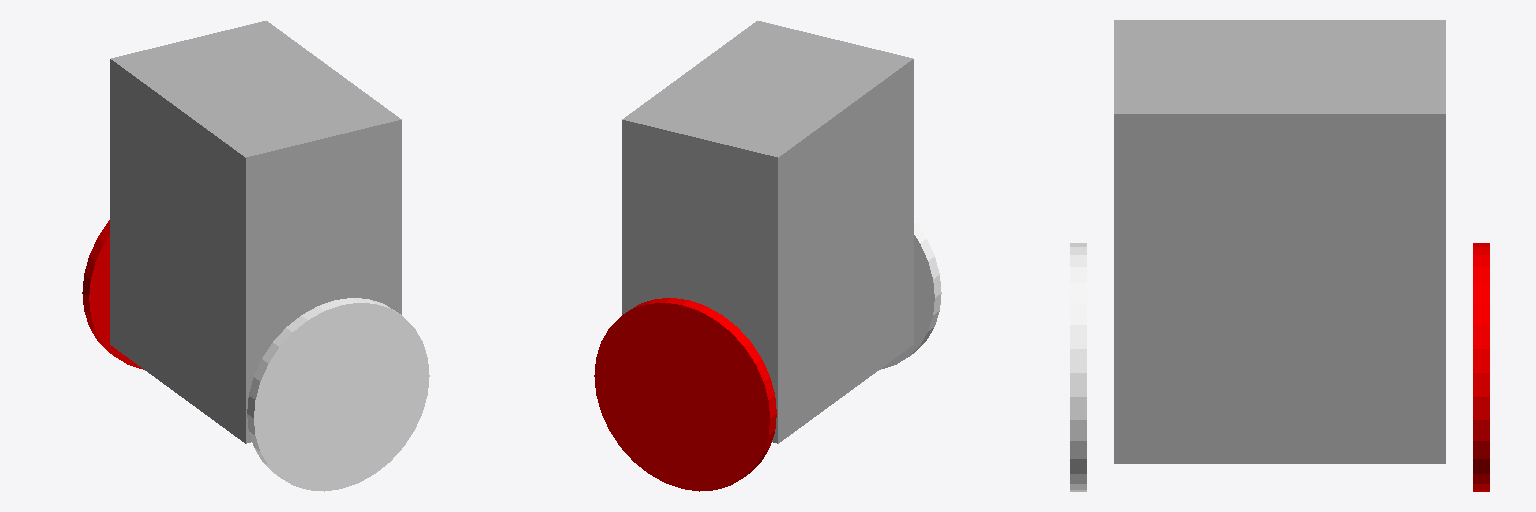
URDF robot description (Self_Balancing_Robot):
<?xml version="1.0"?>
<robot name="Self_Balancing_Robot">
  <!-- Chassis -->
  <link name="Chassis">
    <visual>
      <geometry>
        <box size="0.12 0.08 0.14"/> <!-- Length: 10 cm, Width: 10 cm, Height: 13 cm -->
      </geometry>
      <origin xyz="0 0 0" rpy="0 0 1.5708"/> 
      <material name="ChassisMaterial">
        <color rgba="0.75 0.75 0.75 1"/>  <!-- Grey color for chassis -->
      </material>
    </visual>
    <collision>
      <geometry>
        <box size="0.12 0.08 0.14"/> <!-- Length: 10 cm, Width: 10 cm, Height: 13 cm -->
      </geometry>
      <origin xyz="0 0 0" rpy="0 0 1.5708"/> 
    </collision>
    <inertial>
      <origin xyz="0 0 0.011" rpy="0 0 1.5708"/>
      <mass value="0.478"/>
      <inertia ixx="0.025" ixy="0" ixz="0" iyy="0.0013" iyz="0" izz="0.025"/>
    </inertial>
  </link>

  <!-- Left Wheel -->
  <link name="Left_Wheel">
    <visual>
      <geometry>
        <cylinder radius="0.045" length="0.006"/> <!-- Diameter: 9 cm, Width: 3 cm -->
      </geometry>
      <origin xyz="0 0.073 0" rpy="1.5708 0 0 "/> 
      <material name="WheelMaterial">
        <color rgba="1 0 0 1"/>  <!-- Red color for left wheel -->
      </material>
    </visual>
    <collision>
      <geometry>
        <cylinder radius="0.045" length="0.006"/> <!-- Diameter: 9 cm, Width: 3 cm -->
      </geometry>
      <origin xyz="0 0.073 0" rpy="1.5708 0 0 "/> 
    </collision>
    <inertial>
      <origin xyz="0 0.073 0" rpy="1.5708 0 0 "/>
      <mass value="0.015"/>
      <inertia ixx="0.00" ixy="0" ixz="0" iyy="0.000" iyz="0" izz="0.00"/>
    </inertial>
  </link>

  <!-- Right Wheel -->
  <link name="Right_Wheel">
    <visual>
      <geometry>
        <cylinder radius="0.045" length="0.006"/> <!-- Diameter: 9 cm, Width: 3 cm -->
      </geometry>
      <origin xyz="0 -0.073 0" rpy="-1.5708 0 0 "/>  
      <material name="Wheel_R_Material">
        <color rgba="1 1 1 1"/>  <!-- White color for right wheel -->
      </material>
    </visual>
    <collision>
      <geometry>
        <cylinder radius="0.045" length="0.006"/> <!-- Diameter: 9 cm, Width: 3 cm -->
      </geometry>
      <origin xyz="0 -0.073 0" rpy="-1.5708 0 0 "/> 
    </collision>
    <inertial>
      <origin xyz="0 -0.073 0" rpy="-1.5708 0 0 "/>
      <mass value="0.015"/>
      <inertia ixx="0.00" ixy="0" ixz="0" iyy="0.00" iyz="0" izz="0.00"/>
    </inertial>
  </link>

  <!-- Left Wheel Joint -->
  <joint name="left_wheel_joint" type="continuous">
    <parent link="Chassis"/>
    <child link="Left_Wheel"/>
    <origin xyz="0 0.0 -0.05" rpy="0 0 0"/>
    <limit effort="0.01" velocity="1000"/> <!-- effort = force -->
    <axis xyz="0 1 0"/>
  </joint>

  <!-- Right Wheel Joint -->
  <joint name="right_wheel_joint" type="continuous">
    <parent link="Chassis"/>
    <child link="Right_Wheel"/>
    <origin xyz="0 0.0 -0.05" rpy="0 0 0"/>
    <limit effort="0.01" velocity="1000"/> <!-- effort = force -->
    <axis xyz="0 1 0"/>
  </joint>

</robot>

--- Render facts (derived) ---
The picture shows the robot from 3 angles, left to right: view 1: azimuth 30°, elevation 25°; view 2: azimuth 150°, elevation 25°; view 3: azimuth 270°, elevation 25°; orthographic projection.
Robot: Self_Balancing_Robot — 3 links, 2 joints (2 continuous); root link Chassis; default pose: every joint at zero.
Visible links, largest first — view 1: Chassis, Right_Wheel, Left_Wheel; view 2: Chassis, Left_Wheel, Right_Wheel; view 3: Chassis, Left_Wheel, Right_Wheel.
Boxes of the visible links, x1,y1,x2,y2 form: Chassis: (110, 21, 401, 443); Right_Wheel: (247, 298, 429, 491); Left_Wheel: (82, 220, 143, 369); Chassis: (622, 21, 913, 443); Left_Wheel: (594, 298, 776, 491); Right_Wheel: (880, 220, 941, 369); Chassis: (1114, 20, 1445, 463); Left_Wheel: (1473, 243, 1489, 491); Right_Wheel: (1070, 243, 1086, 491).
Bounding box of the posed robot: 0.09 × 0.152 × 0.165 m (x, y, z).
Geometry: primitives only (box / cylinder / sphere), no mesh files.